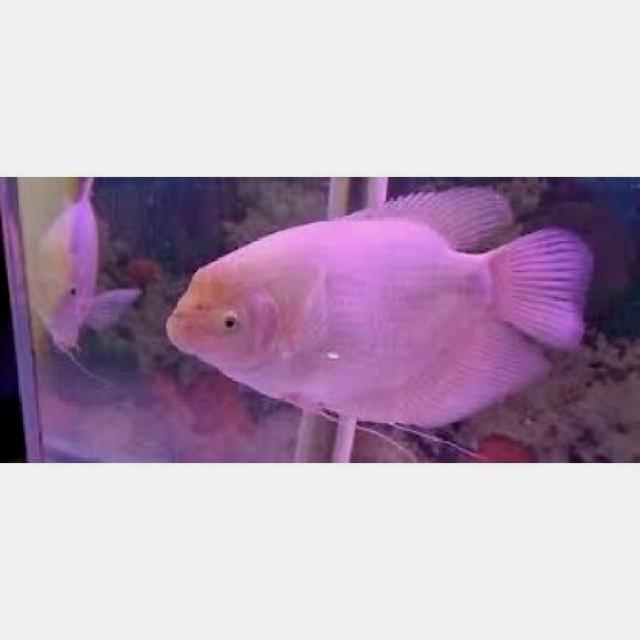gurame: (161, 191, 590, 431)
